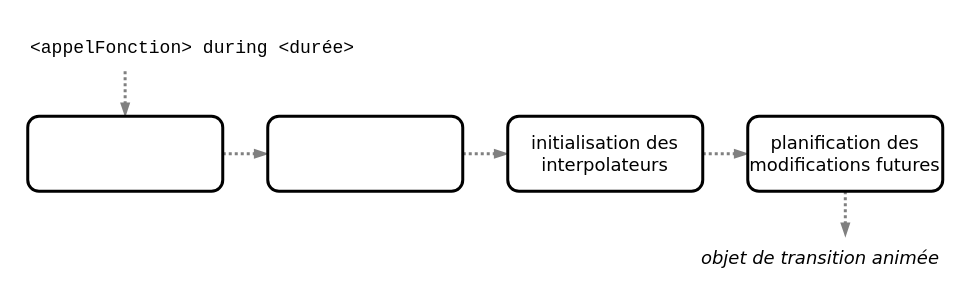
The diagram is 969 pixels wide and 306 high, and some of its shapes have lost their labels. Here are the shapes that lost their labels. From the top down, the box of each, then its label:
(26, 114, 224, 192): extraction des composants de l'appel de fonction
(266, 114, 464, 192): récupération des valeurs initiales
